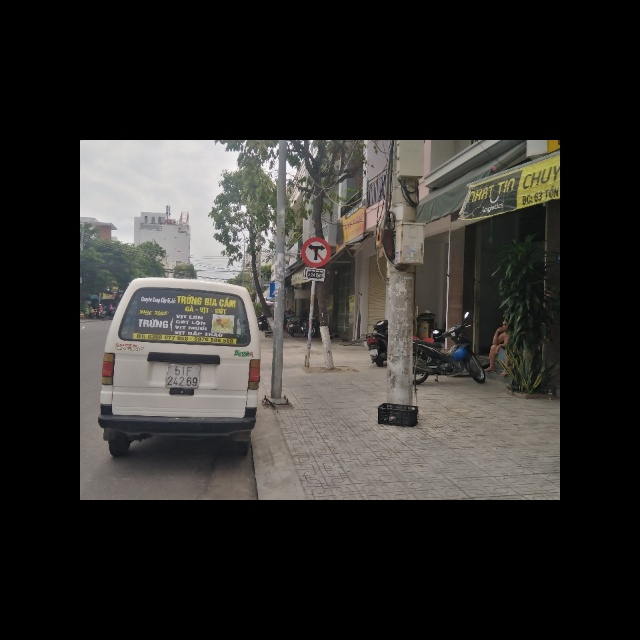Cấm rẽ trái và rẽ phải: (300, 237, 331, 267)
